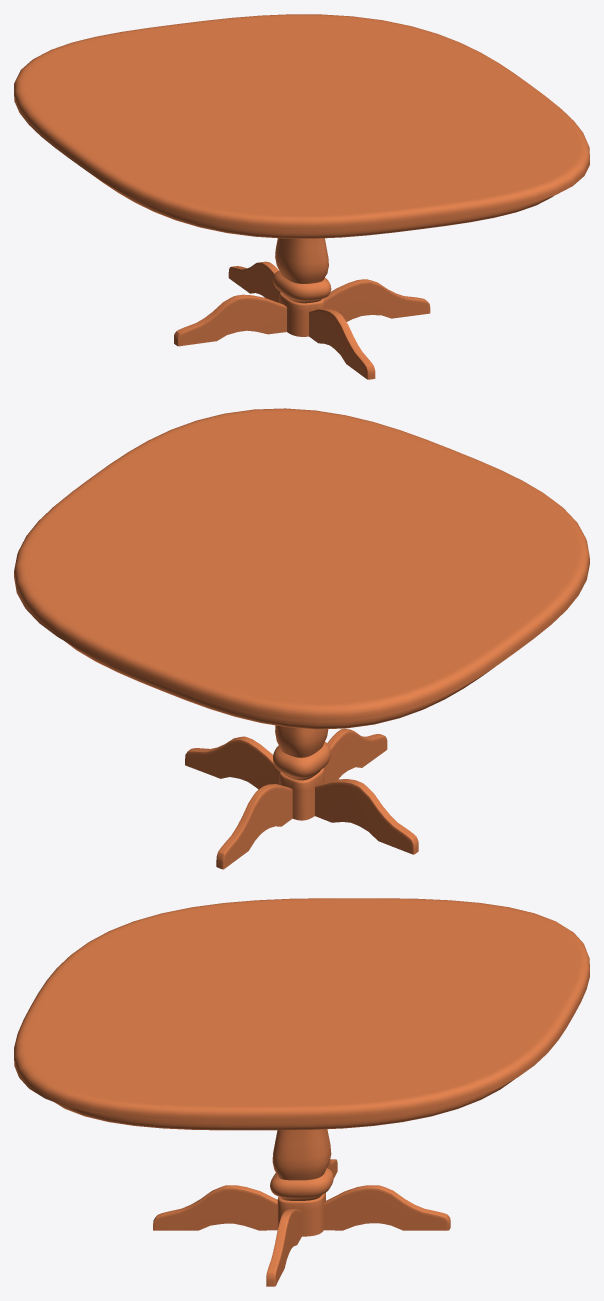
The picture shows the model from 3 angles, top to bottom: view 1: azimuth 30°, elevation 25°; view 2: azimuth 150°, elevation 25°; view 3: azimuth 270°, elevation 25°; orthographic projection. The views are drawn at different scales.
Parts seen in each view (by area): view 1: NoSlideTable; view 2: NoSlideTable; view 3: NoSlideTable.
Boxes of the visible parts, <box> form: NoSlideTable: <box>14,14,589,379</box>; NoSlideTable: <box>14,408,589,869</box>; NoSlideTable: <box>14,898,589,1286</box>.
Size of the model in its own units: 1.23 by 0.6044 by 1.4.
